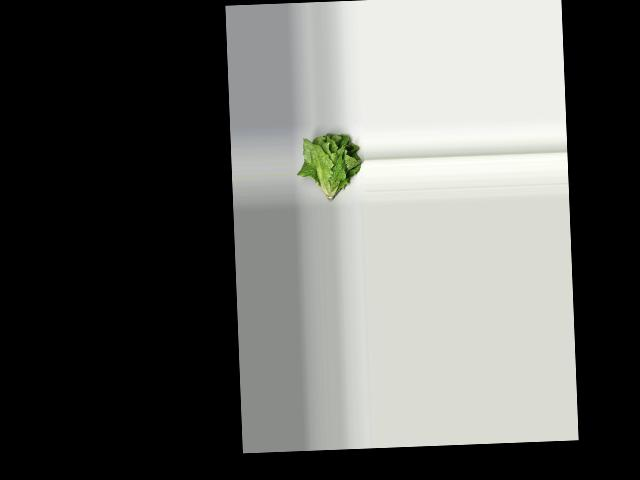lettuce: (296, 131, 363, 203)
